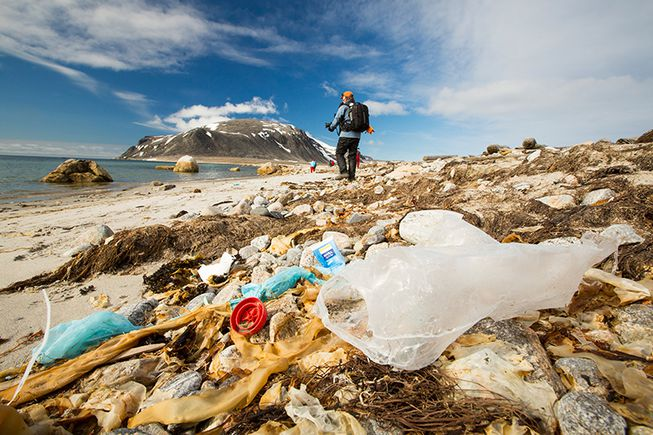litter: (312, 198, 649, 382), (19, 296, 184, 376), (227, 295, 293, 335), (296, 238, 359, 278)
